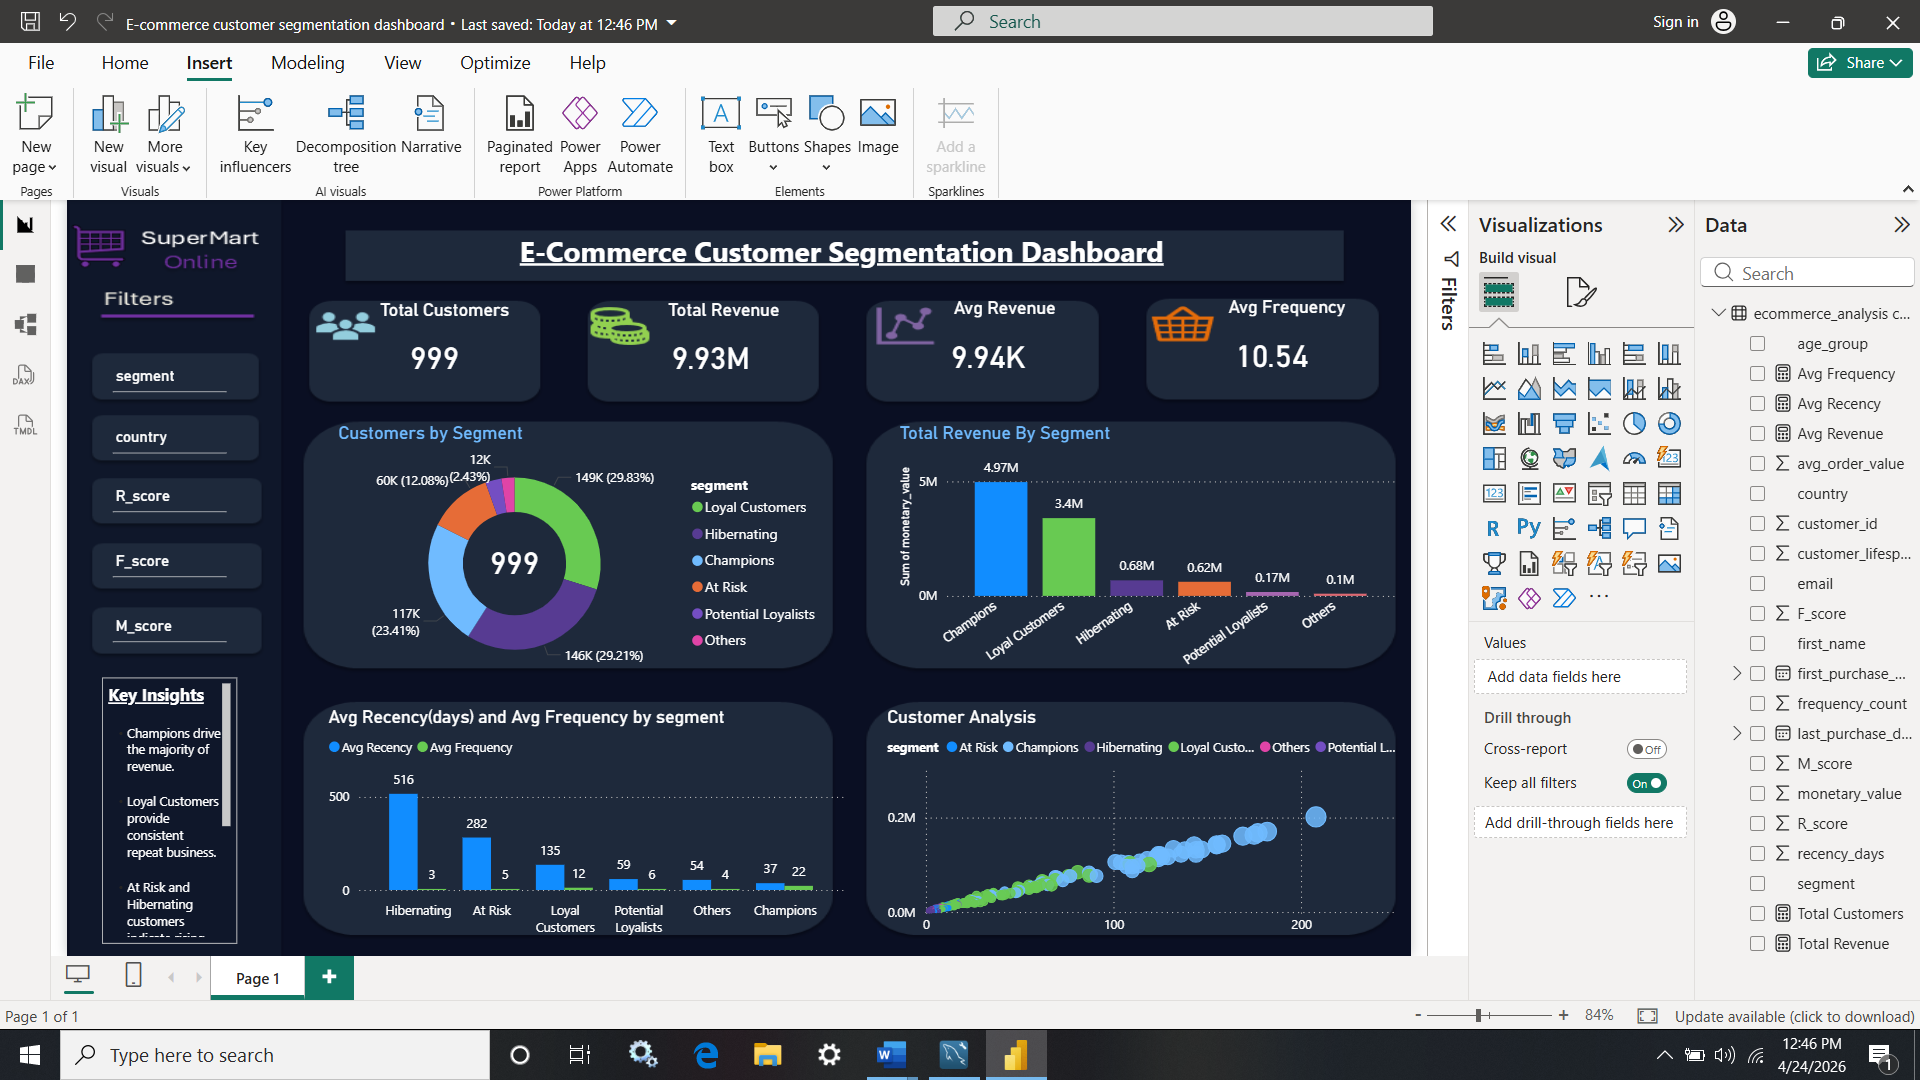

The page's visual inventory and layout, read from the dashboard file:
{"tool":"powerbi","page":{"name":"Page 1","canvas":[1280,720],"ordinal":0},"visuals":[{"type":"slicer","fields":{"Values":["ecommerce_analysis customer_segments.segment"]},"box":[33.3,153.6,128.6,29.8],"z":0},{"type":"slicer","fields":{"Values":["ecommerce_analysis customer_segments.R_score"]},"box":[33.3,267.9,128.6,29.8],"z":1000},{"type":"slicer","fields":{"Values":["ecommerce_analysis customer_segments.F_score"]},"box":[33.3,329.8,128.6,29.8],"z":2000},{"type":"slicer","fields":{"Values":["ecommerce_analysis customer_segments.M_score"]},"box":[33.3,391.7,128.6,29.8],"z":3000},{"type":"slicer","fields":{"Values":["ecommerce_analysis customer_segments.country"]},"box":[33.3,211.9,128.6,29.8],"z":4000},{"type":"card","title":"Total Customers","fields":{"Values":["ecommerce_analysis customer_segments.Total Customers"]},"box":[273.8,94,152.4,91.7],"z":5000},{"type":"card","title":"Total Revenue","fields":{"Values":["ecommerce_analysis customer_segments.Total Revenue"]},"box":[542.9,94,140.5,91.7],"z":6000},{"type":"card","title":"Avg Revenue","fields":{"Values":["ecommerce_analysis customer_segments.Avg Revenue"]},"box":[808.3,92.9,138.1,91.7],"z":7000},{"type":"card","title":"Avg Frequency","fields":{"Values":["ecommerce_analysis customer_segments.Avg Frequency"]},"box":[1072.6,91.7,150,91.7],"z":8000},{"type":"donutChart","title":"Customers by Segment","fields":{"Category":["ecommerce_analysis customer_segments.segment"],"Y":["Sum(ecommerce_analysis customer_segments.customer_id)"]},"box":[253.6,211.9,472.6,250],"z":9000},{"type":"card","fields":{"Values":["ecommerce_analysis customer_segments.Total Customers"]},"box":[372.6,297.6,107.1,94],"z":10000},{"type":"clusteredColumnChart","title":"Total Revenue By Segment","fields":{"Category":["ecommerce_analysis customer_segments.segment"],"Y":["Sum(ecommerce_analysis customer_segments.monetary_value)"]},"box":[788.1,211.9,482.1,258.3],"z":11000},{"type":"clusteredColumnChart","title":"Avg Recency(days) and Avg Frequency by segment","fields":{"Category":["ecommerce_analysis customer_segments.segment"],"Y":["ecommerce_analysis customer_segments.Avg Recency","ecommerce_analysis customer_segments.Avg Frequency"]},"box":[244,482.1,501.2,226.2],"z":11001},{"type":"scatterChart","title":"Customer Analysis","fields":{"X":["Sum(ecommerce_analysis customer_segments.frequency_count)"],"Y":["Sum(ecommerce_analysis customer_segments.monetary_value)"],"Series":["ecommerce_analysis customer_segments.segment"],"Size":["Sum(ecommerce_analysis customer_segments.monetary_value)"],"Category":["ecommerce_analysis customer_segments.recency_days"]},"box":[776.2,482.1,503.6,226.2],"z":11002},{"type":"textbox","box":[33.3,454.8,128.6,253.6],"z":11003},{"type":"textbox","box":[426.2,25,759.5,58.3],"z":11004}]}

Visuals, with their boxes on the page's 1280x720 design canvas (x1, y1, x2, y2). These are canvas units, not pixel positions in the 1920x1080 screenshot, which may show the page scaled, cropped or inside an application window:
slicer - ecommerce_analysis customer_segments.segment: box(33, 154, 162, 183)
slicer - ecommerce_analysis customer_segments.R_score: box(33, 268, 162, 298)
slicer - ecommerce_analysis customer_segments.F_score: box(33, 330, 162, 360)
slicer - ecommerce_analysis customer_segments.M_score: box(33, 392, 162, 422)
slicer - ecommerce_analysis customer_segments.country: box(33, 212, 162, 242)
"Total Customers" card: box(274, 94, 426, 186)
"Total Revenue" card: box(543, 94, 683, 186)
"Avg Revenue" card: box(808, 93, 946, 185)
"Avg Frequency" card: box(1073, 92, 1223, 183)
"Customers by Segment" donutChart: box(254, 212, 726, 462)
card - ecommerce_analysis customer_segments.Total Customers: box(373, 298, 480, 392)
"Total Revenue By Segment" clusteredColumnChart: box(788, 212, 1270, 470)
"Avg Recency(days) and Avg Frequency by segment" clusteredColumnChart: box(244, 482, 745, 708)
"Customer Analysis" scatterChart: box(776, 482, 1280, 708)
textbox: box(33, 455, 162, 708)
textbox: box(426, 25, 1186, 83)
